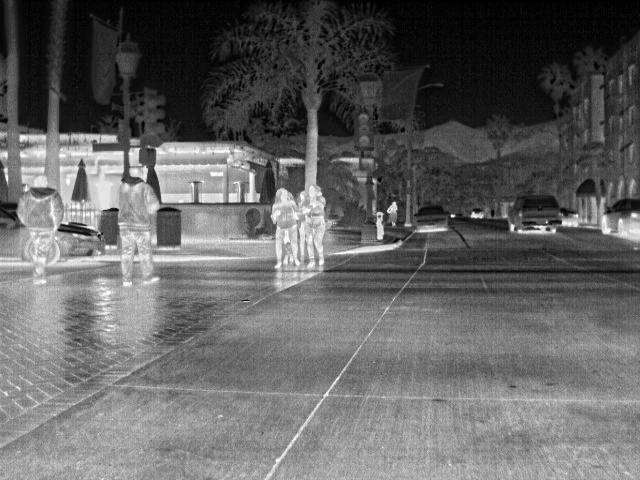car: (1, 200, 35, 264), (509, 194, 563, 234), (56, 225, 108, 263), (598, 199, 638, 234), (413, 204, 451, 234), (469, 206, 486, 220)
person: (116, 159, 162, 287), (15, 172, 64, 287), (271, 188, 301, 270), (300, 186, 327, 270), (386, 200, 400, 228)
